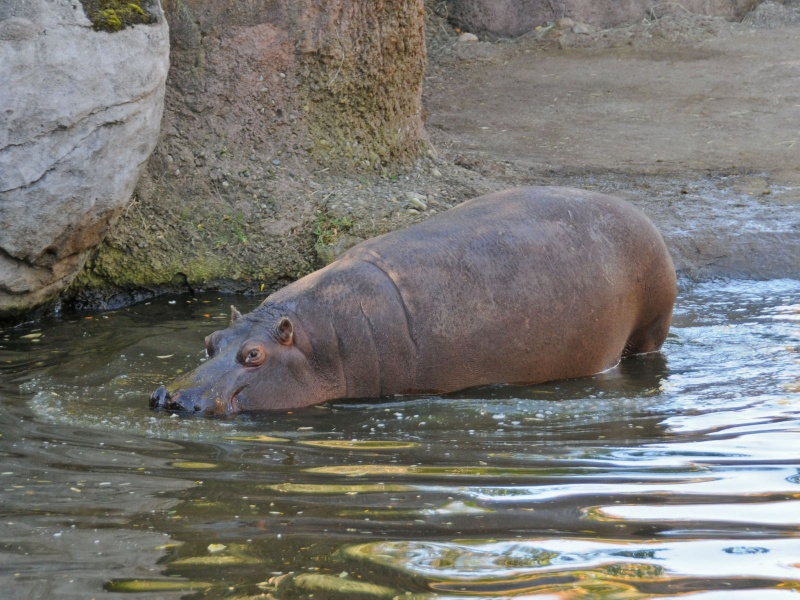hipopotamo: (158, 185, 692, 434)
